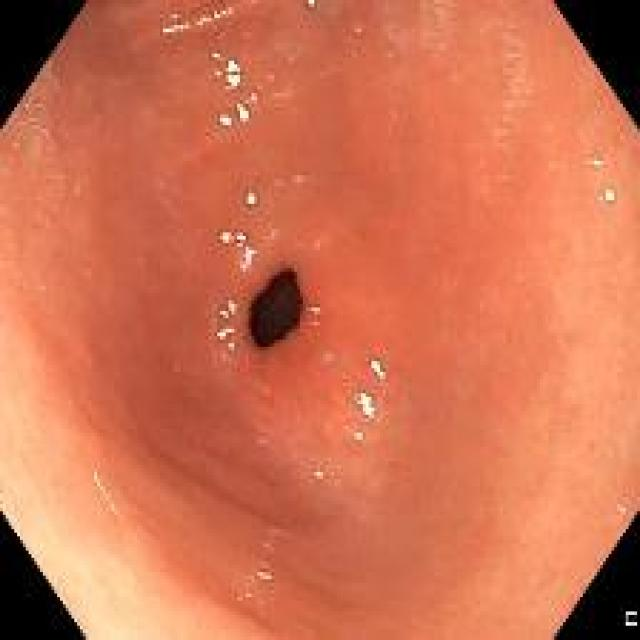bubbles: (495, 14, 521, 75), (14, 97, 50, 136), (38, 139, 53, 165), (351, 19, 368, 37), (384, 109, 400, 126), (384, 46, 395, 64), (431, 43, 443, 55), (9, 140, 19, 149), (377, 34, 386, 44)
contrast: (249, 269, 302, 349)
saturation: (1, 462, 163, 640)
specularity: (355, 390, 375, 420), (224, 58, 241, 87), (240, 246, 256, 269), (371, 358, 385, 383), (219, 299, 236, 319), (233, 102, 250, 122), (161, 21, 192, 31), (216, 323, 233, 338), (218, 230, 232, 247), (212, 7, 233, 18), (603, 187, 616, 204), (236, 231, 247, 249), (216, 113, 230, 126), (245, 191, 257, 203), (352, 431, 364, 441), (592, 155, 602, 167), (314, 469, 323, 478), (305, 0, 316, 6), (211, 51, 219, 59), (226, 342, 235, 349)
